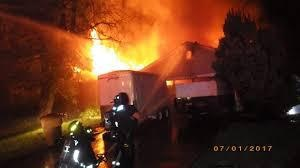fire: (78, 28, 154, 75)
